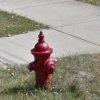a fire hydrant: (28, 31, 57, 90)
